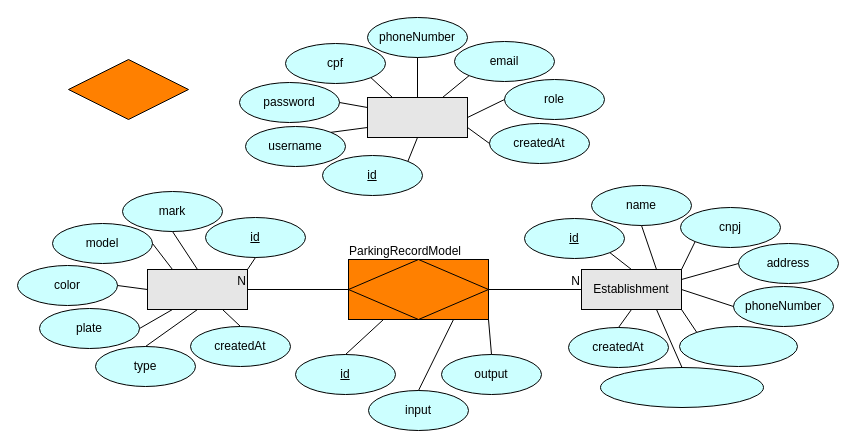
This 856x448 diagram has some shape labels left out. The shapes that lost their labels are listed below. From the top down, each one's centre as x and y in pixels, then its label:
At [128,89]: "Relationship".
At [417,117]: "User".
At [197,289]: "Vehicle".
At [418,289]: "park".
At [738,346]: "numberOfCarSpaces".
At [682,387]: "numberOfMotorcycleSpaces".
